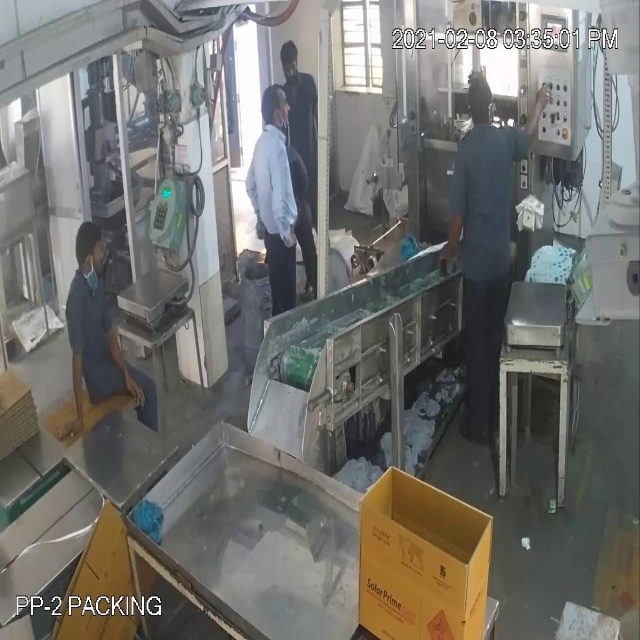Sin_guantes: (104, 301, 155, 422), (507, 72, 552, 175), (58, 325, 94, 453), (274, 160, 302, 261), (436, 190, 470, 270)
